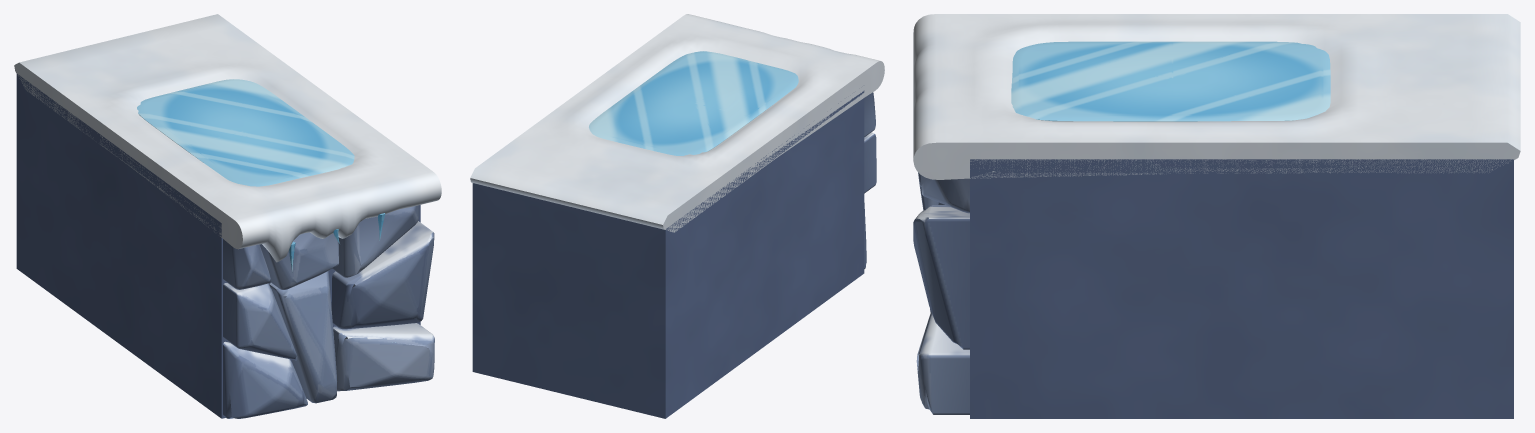
The model's file is FP_T05_FrozenSurface.fbx.
The picture shows the model from 3 angles, left to right: view 1: azimuth 30°, elevation 25°; view 2: azimuth 150°, elevation 25°; view 3: azimuth 270°, elevation 25°; orthographic projection. The views are drawn at different scales.
Parts seen in each view (by area): view 1: Rock, SnowCap, IcePane; view 2: Rock, SnowCap, IcePane; view 3: Rock, SnowCap, IcePane.
Boxes of the visible parts, x1,y1,x2,y2 form: Rock: (16, 73, 434, 418); SnowCap: (14, 14, 441, 272); IcePane: (137, 79, 354, 186); Rock: (472, 90, 876, 418); SnowCap: (470, 14, 884, 232); IcePane: (589, 51, 798, 155); Rock: (913, 159, 1513, 418); SnowCap: (913, 14, 1520, 179); IcePane: (1011, 41, 1330, 121).
Size of the model in its own units: 2 by 2.02 by 3.99.
